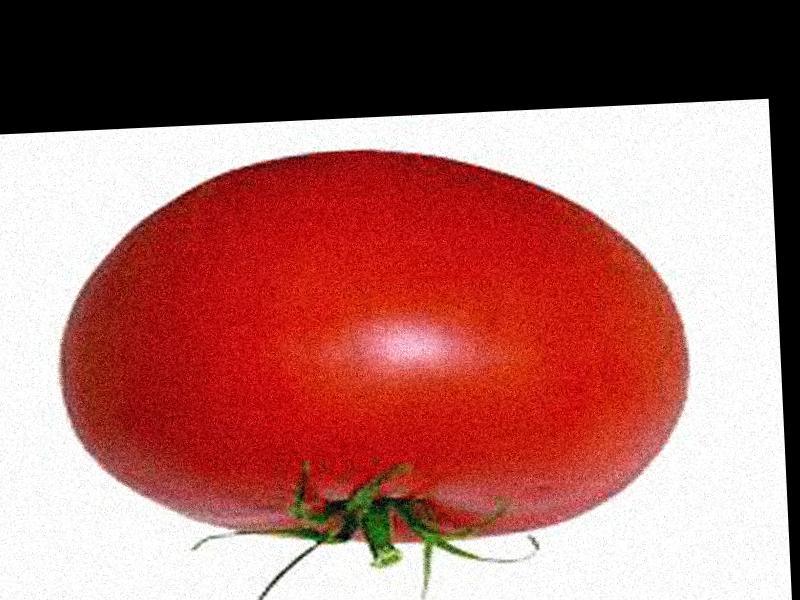Tomato: (56, 137, 690, 558)
